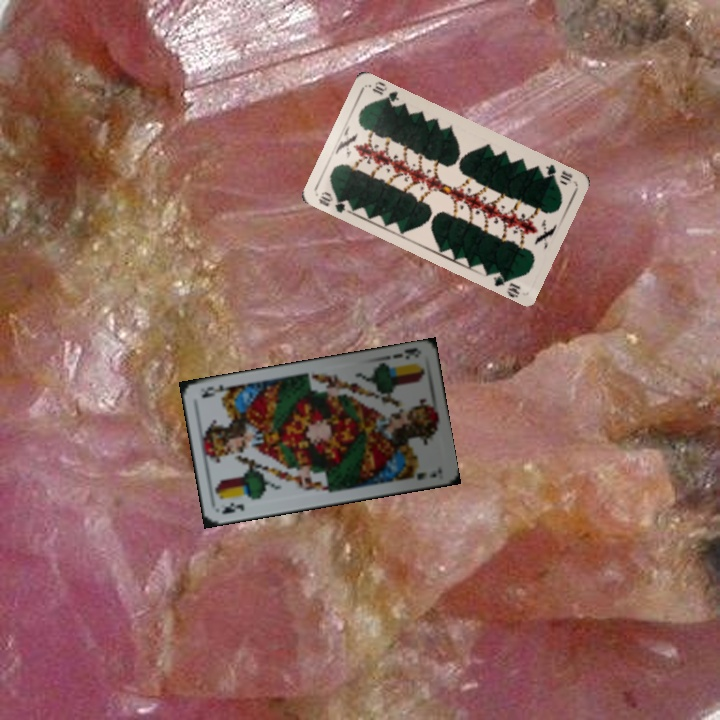EK: (389, 344, 422, 362), (218, 499, 247, 517)
G10: (314, 187, 354, 215), (535, 160, 575, 184)
